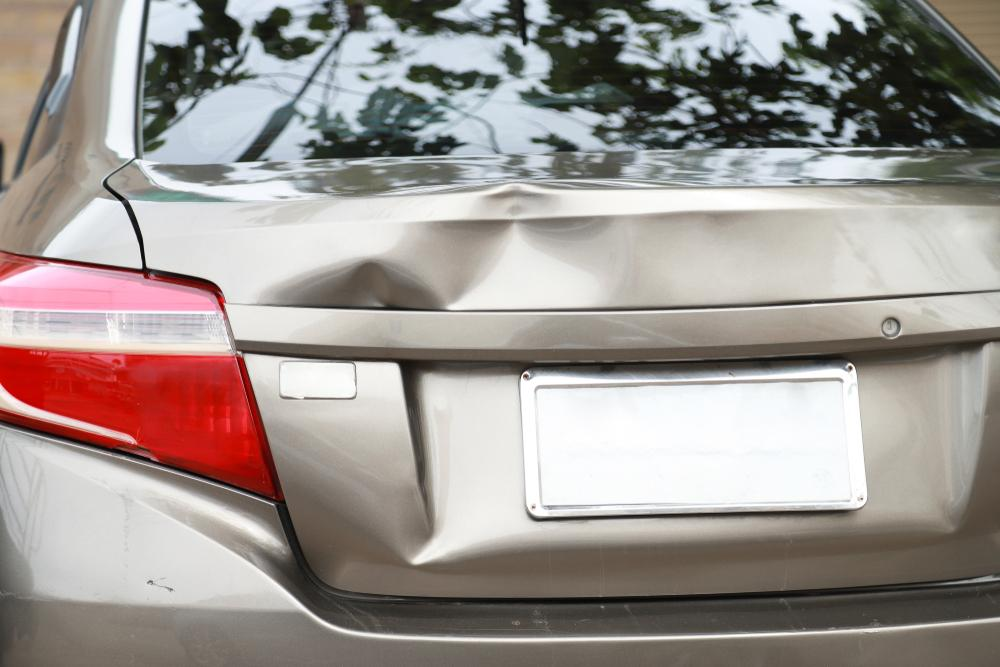dent: (266, 181, 638, 310), (400, 496, 457, 570)
lamp broken: (0, 251, 285, 502)
